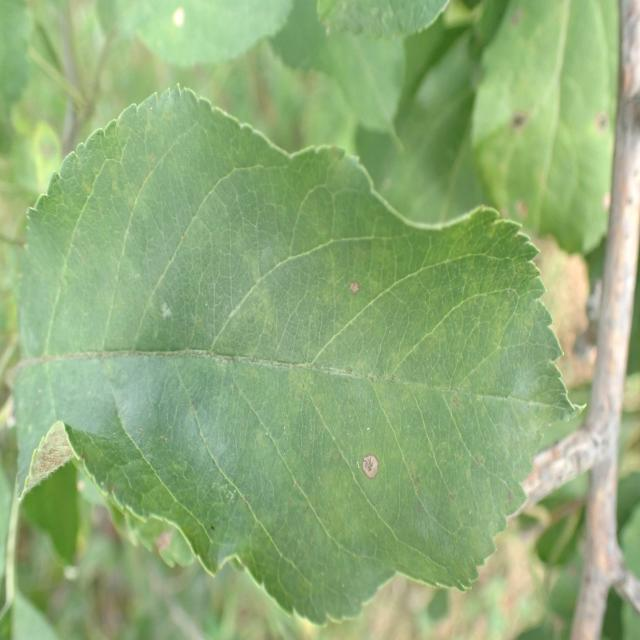frog-eye-leaf-spot: (16, 83, 587, 628)
